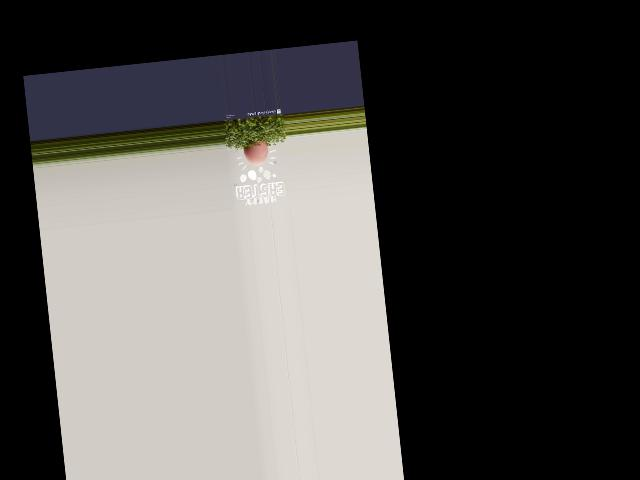egg: (241, 140, 268, 166)
